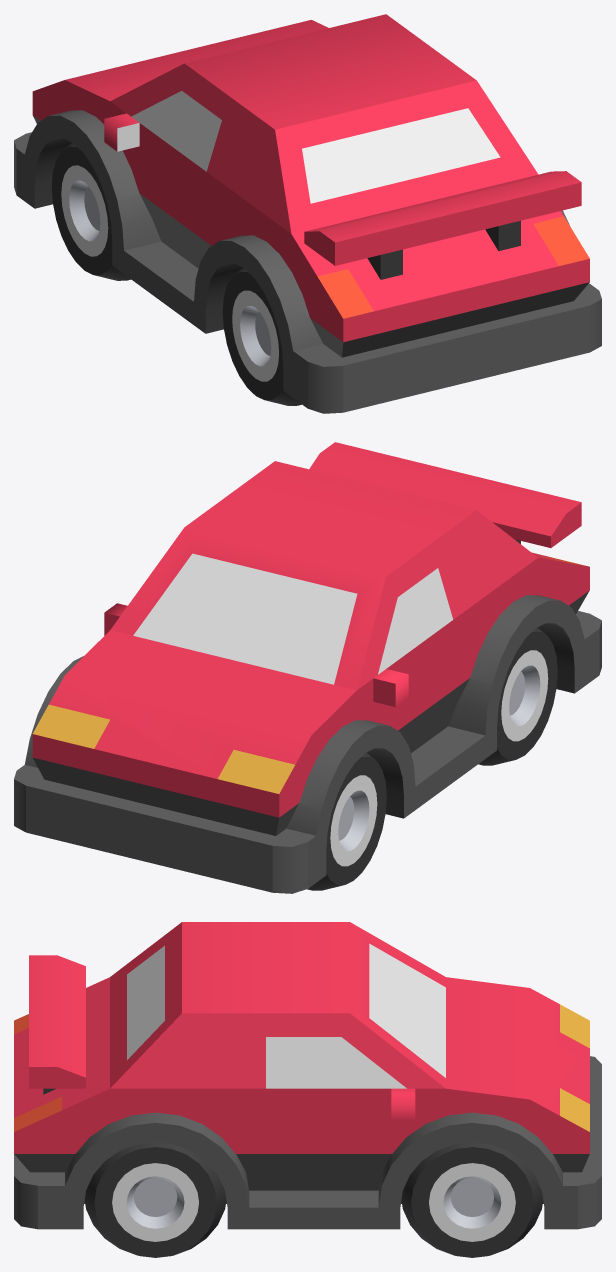
File: sedanSports.gltf
3 views of the same model, one above another, from view 1: azimuth 30°, elevation 25°; view 2: azimuth 150°, elevation 25°; view 3: azimuth 270°, elevation 25° (orthographic). The views are drawn at different scales.
Visible parts, largest first — view 1: body, spoiler, wheel_backLeft, wheel_frontLeft; view 2: body, spoiler, wheel_frontLeft, wheel_backLeft; view 3: body, wheel_backRight, wheel_frontRight, spoiler.
Boxes of the visible parts, box(x1,y1,x2,y2) form: body: box(14, 14, 601, 413); spoiler: box(304, 171, 581, 279); wheel_backLeft: box(222, 267, 301, 405); wheel_frontLeft: box(51, 142, 130, 280); body: box(14, 461, 601, 893); spoiler: box(309, 442, 581, 547); wheel_frontLeft: box(307, 752, 386, 890); wheel_backLeft: box(478, 627, 557, 765); body: box(14, 922, 601, 1229); wheel_backRight: box(84, 1142, 226, 1257); wheel_frontRight: box(401, 1142, 543, 1257); spoiler: box(29, 955, 85, 1094).
Bounding box in the file's own units: 1.3 × 1.1 × 2.45.
